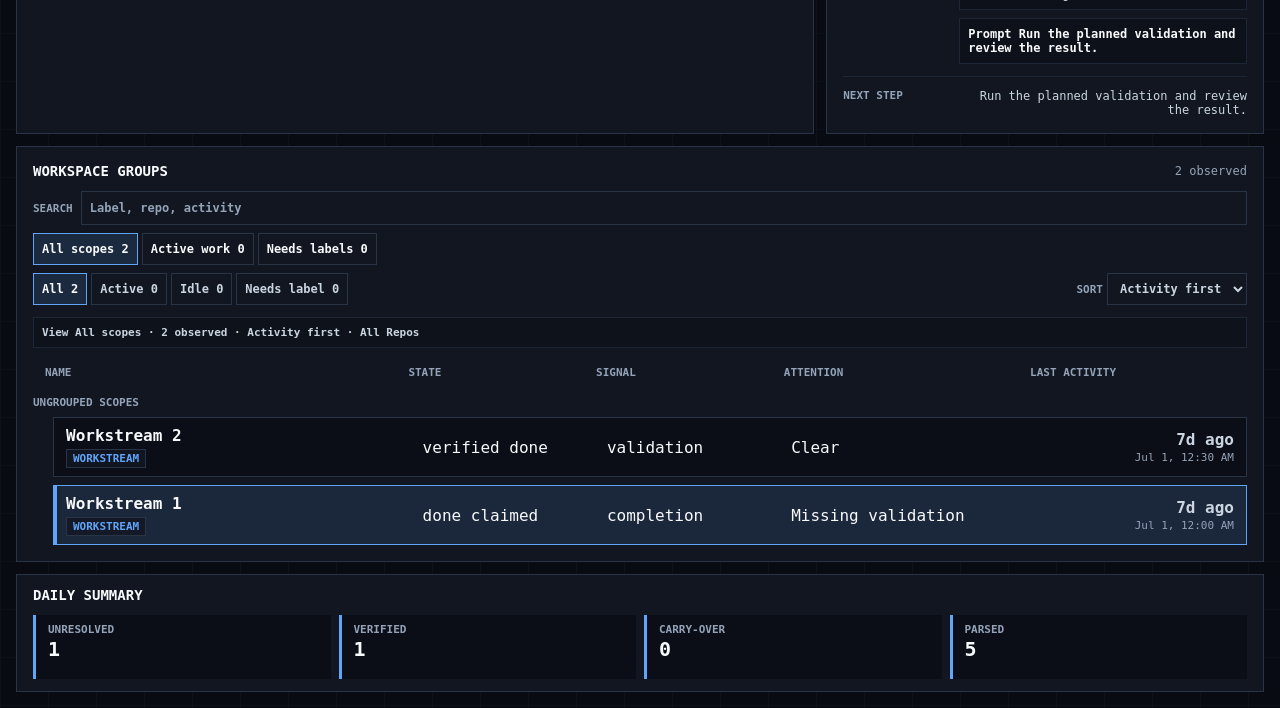
Test: AppView › opens a sanitized detail panel for a selected workstream
The image size is (1280, 708).
(page scrolled)
Click the button with aria-label "View Workstream 2 details" at (650, 447), box [53,417,1247,477]
(page scrolled)
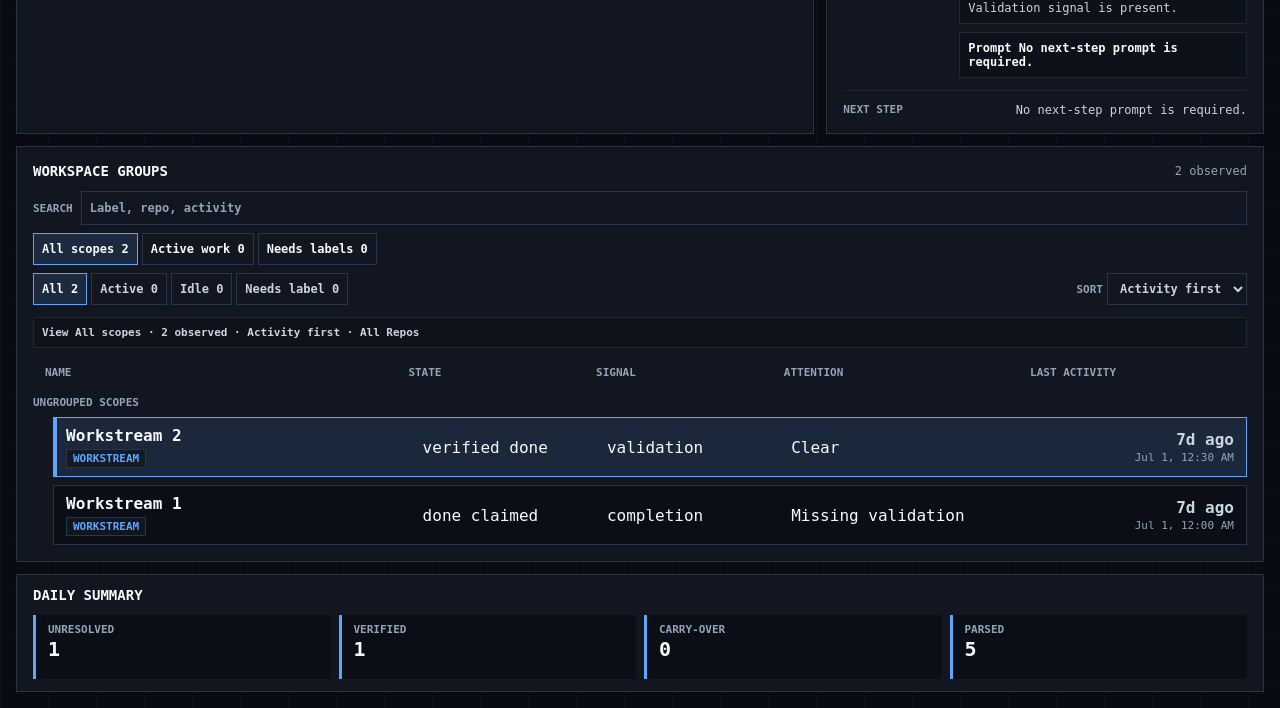
Check: the text "Next Step" is shown, box [843,103,903,116]
Check: the text "No next-step prompt is required." is shown, box [1016,103,1247,117]
